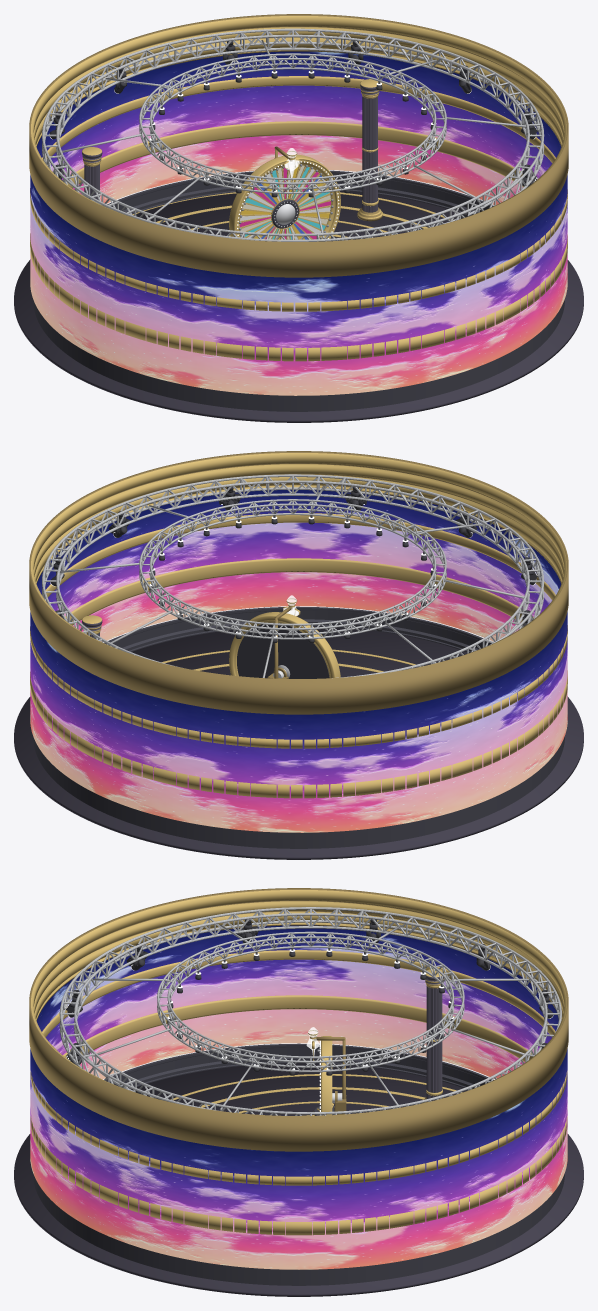
File: wheel_stage.glb
3 views of the same model, one above another, from view 1: azimuth 30°, elevation 25°; view 2: azimuth 150°, elevation 25°; view 3: azimuth 270°, elevation 25° (orthographic).
Visible parts, largest first — view 1: Wall_Screen, Wall_Fascia, Floor_Disc, Wall_Band_Mid, Wall_Plinth, Truss_Ring, Wall_Band_Up, Truss_Brace, Truss_Ring_Inner, Truss_Brace_Inner, Wheel_Spokes, Wheel_Rim (+4 smaller); view 2: Wall_Screen, Wall_Fascia, Floor_Disc, Wall_Plinth, Wall_Band_Mid, Wall_Band_Up, Truss_Ring, Truss_Ring_Inner, Truss_Brace, Truss_Brace_Inner, Wheel_BackPlate, Wheel_Rim (+3 smaller); view 3: Wall_Screen, Wall_Fascia, Floor_Disc, Wall_Plinth, Wall_Band_Mid, Wall_Band_Up, Truss_Ring, Truss_Ring_Inner, Truss_Brace, Truss_Brace_Inner, Pillar_L_Core, Floor_Rings (+3 smaller).
Part boxes in pixels (x1=…): Wall_Screen: x1=30, y1=51, x2=567, y2=395; Wall_Fascia: x1=29, y1=14, x2=568, y2=277; Floor_Disc: x1=14, y1=190, x2=583, y2=422; Wall_Band_Mid: x1=30, y1=121, x2=567, y2=361; Wall_Plinth: x1=33, y1=170, x2=564, y2=411; Truss_Ring: x1=42, y1=28, x2=544, y2=241; Wall_Band_Up: x1=30, y1=76, x2=567, y2=311; Truss_Brace: x1=42, y1=29, x2=543, y2=240; Truss_Ring_Inner: x1=139, y1=53, x2=446, y2=193; Truss_Brace_Inner: x1=139, y1=54, x2=446, y2=192; Wheel_Spokes: x1=239, y1=165, x2=331, y2=239; Wheel_Rim: x1=229, y1=154, x2=340, y2=238; Wall_Screen: x1=30, y1=490, x2=567, y2=832; Wall_Fascia: x1=29, y1=451, x2=568, y2=714; Floor_Disc: x1=14, y1=626, x2=583, y2=859; Wall_Plinth: x1=33, y1=606, x2=564, y2=848; Wall_Band_Mid: x1=30, y1=558, x2=567, y2=798; Wall_Band_Up: x1=30, y1=513, x2=567, y2=748; Truss_Ring: x1=42, y1=474, x2=544, y2=678; Truss_Ring_Inner: x1=139, y1=499, x2=446, y2=639; Truss_Brace: x1=42, y1=475, x2=543, y2=672; Truss_Brace_Inner: x1=139, y1=500, x2=446, y2=638; Wheel_BackPlate: x1=237, y1=622, x2=329, y2=678; Wheel_Rim: x1=229, y1=612, x2=340, y2=678; Wall_Screen: x1=30, y1=925, x2=567, y2=1269; Wall_Fascia: x1=29, y1=888, x2=568, y2=1151; Floor_Disc: x1=14, y1=1063, x2=583, y2=1296; Wall_Plinth: x1=33, y1=1043, x2=564, y2=1285; Wall_Band_Mid: x1=30, y1=995, x2=567, y2=1235; Wall_Band_Up: x1=30, y1=950, x2=567, y2=1185; Truss_Ring: x1=59, y1=907, x2=561, y2=1114; Truss_Ring_Inner: x1=157, y1=931, x2=464, y2=1072; Truss_Brace: x1=60, y1=908, x2=559, y2=1115; Truss_Brace_Inner: x1=157, y1=932, x2=464, y2=1070; Pillar_L_Core: x1=426, y1=986, x2=442, y2=1100; Floor_Rings: x1=170, y1=1074, x2=462, y2=1115.
Bounding box in the file's own units: 23.96 × 8.36 × 23.96.
Materials: 19 (1 with a texture image).
